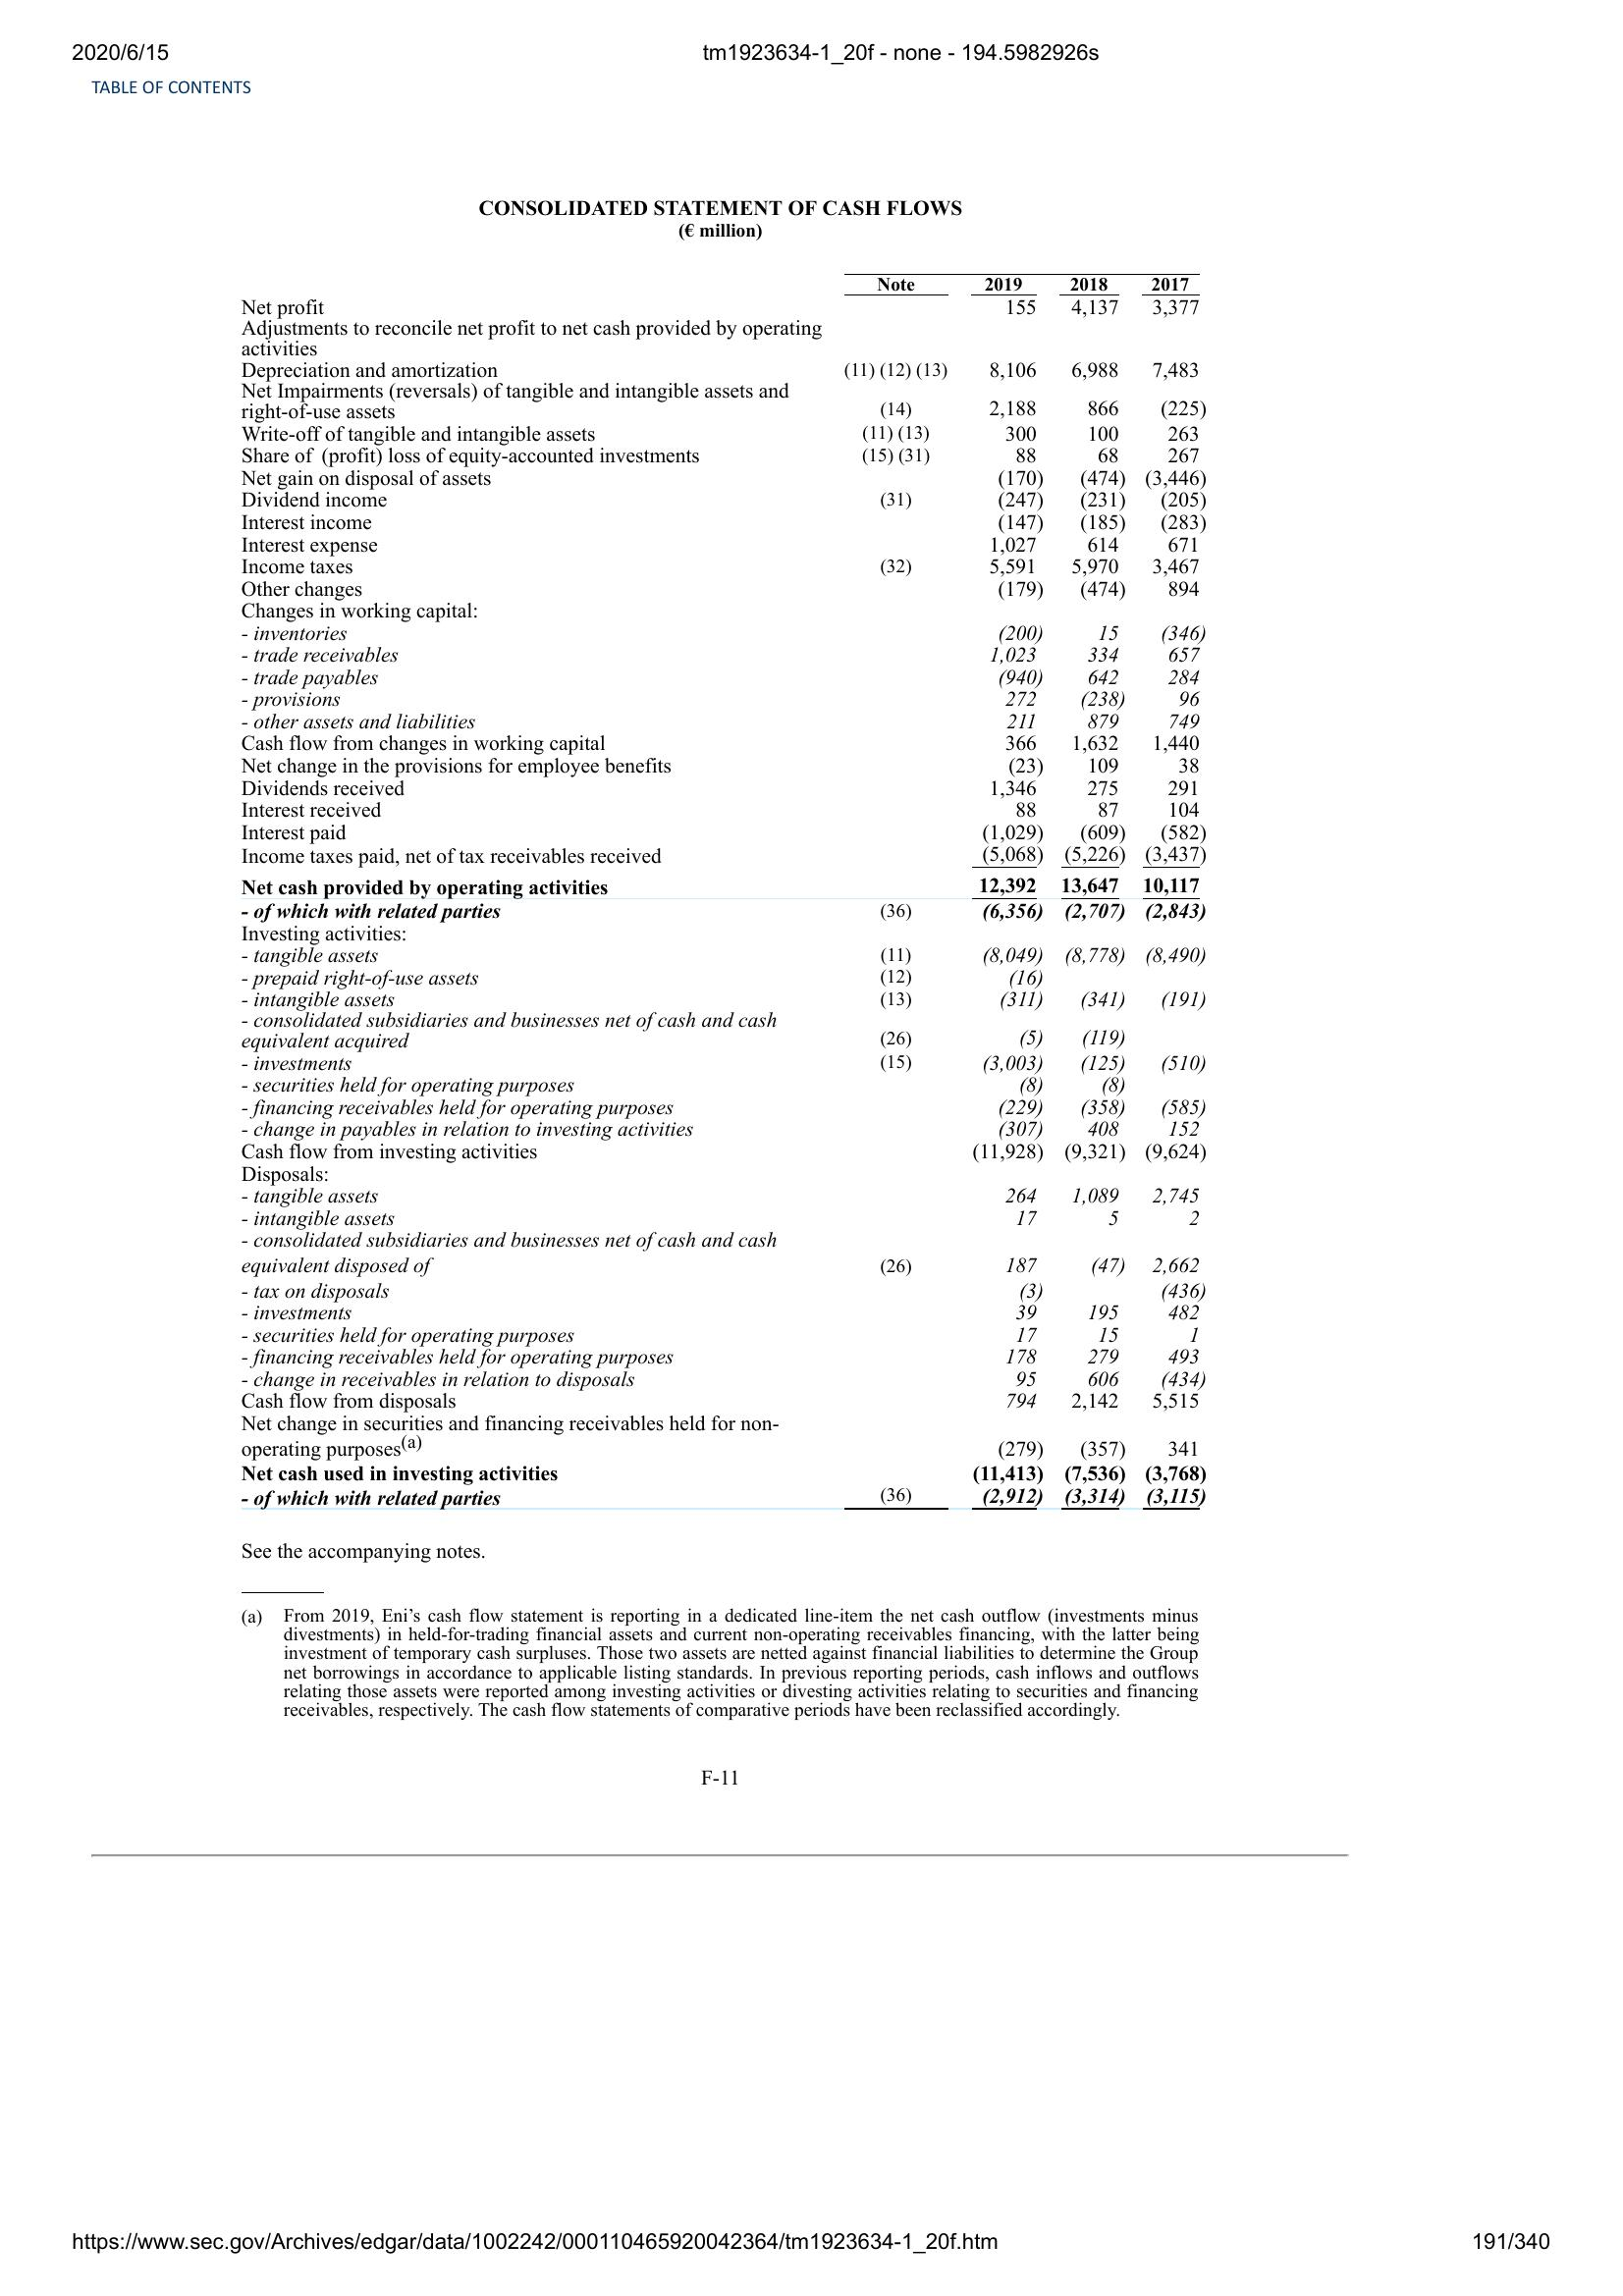table: (221, 270, 1219, 1522)
